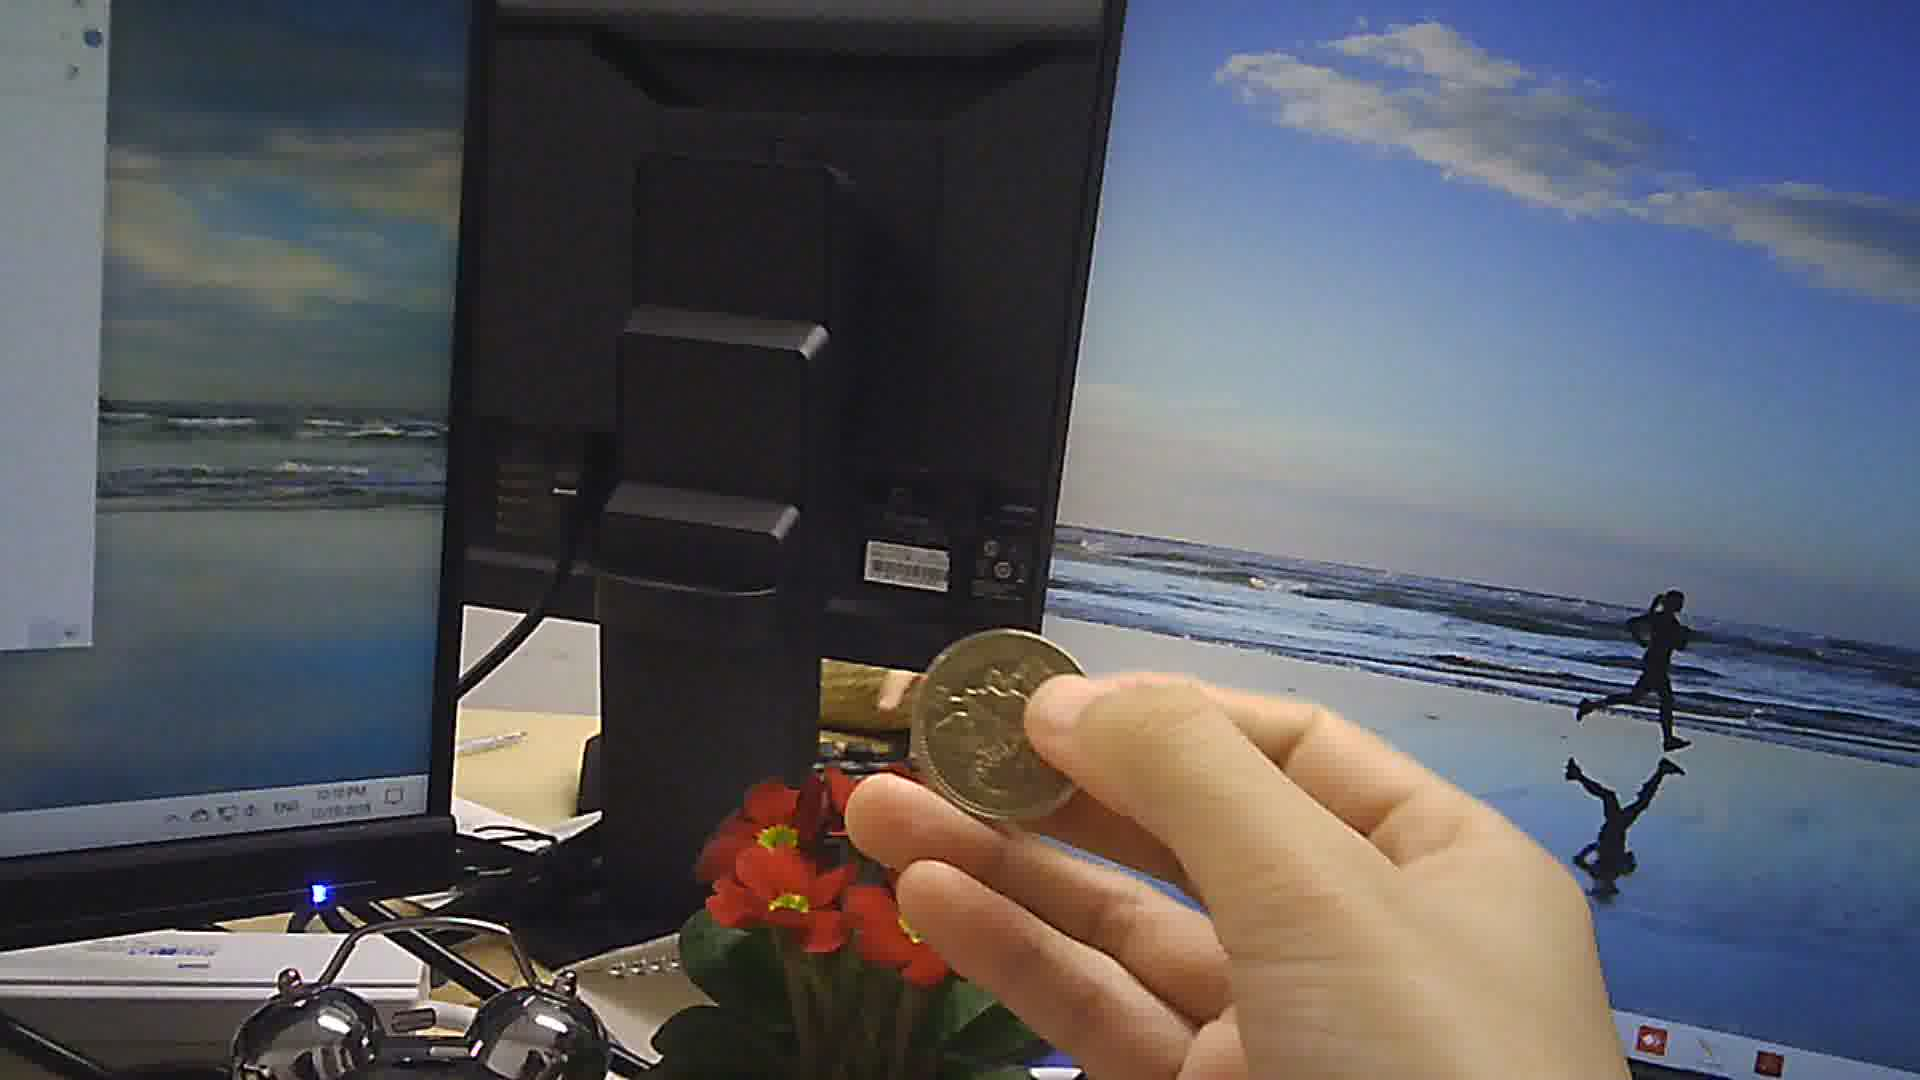500 Yen: (909, 629, 1102, 808)
